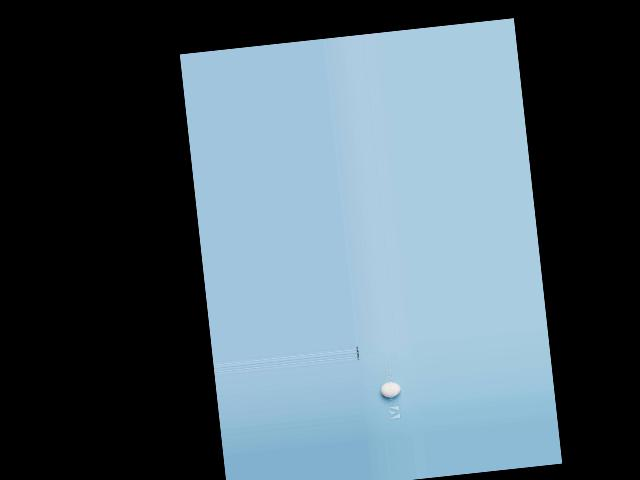egg: (379, 381, 400, 398)
